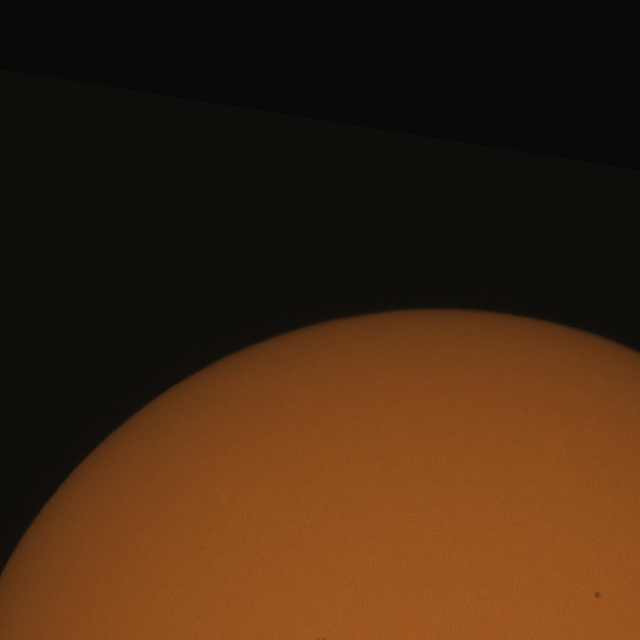sunspot: (594, 590, 602, 600)
